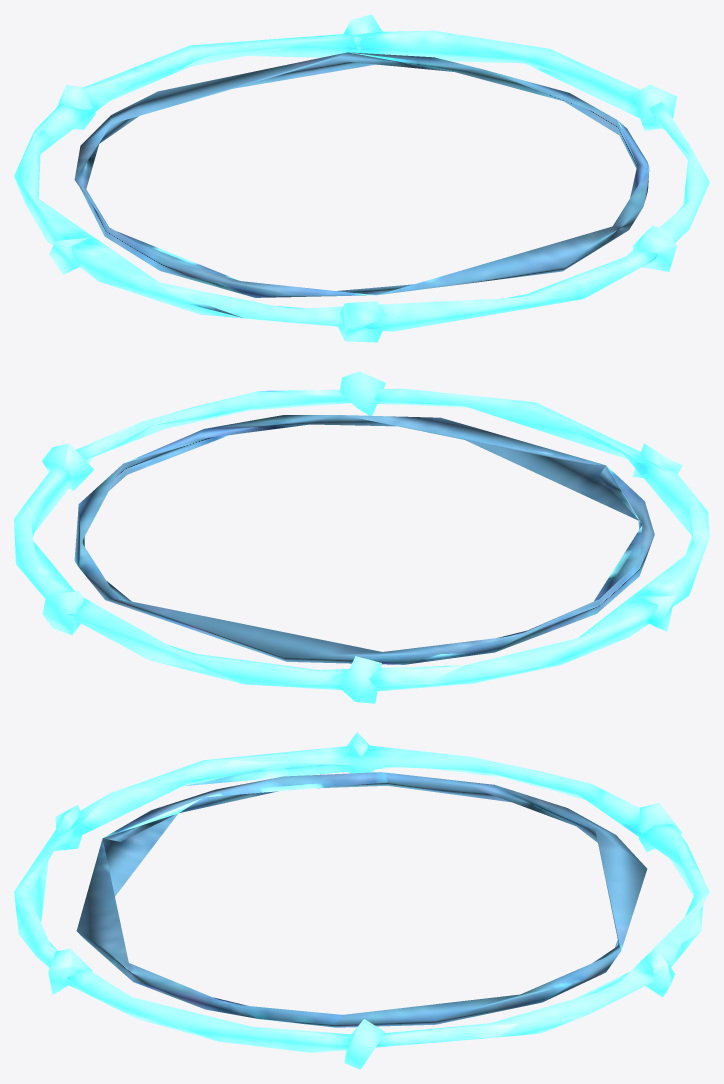
File: u_stormring_f_g.glb
3 views of the same model, one above another, from view 1: azimuth 30°, elevation 25°; view 2: azimuth 150°, elevation 25°; view 3: azimuth 270°, elevation 25° (orthographic).
Parts seen in each view (by area): view 1: u_stormring_f; view 2: u_stormring_f; view 3: u_stormring_f.
Part boxes in pixels (x1,y1,x2,y2): u_stormring_f: [14, 14, 709, 342]; u_stormring_f: [14, 371, 709, 703]; u_stormring_f: [14, 732, 709, 1069].
Bounding box in the file's own units: 2.02 × 0.1438 × 1.94.
1 material, 1 textured.
